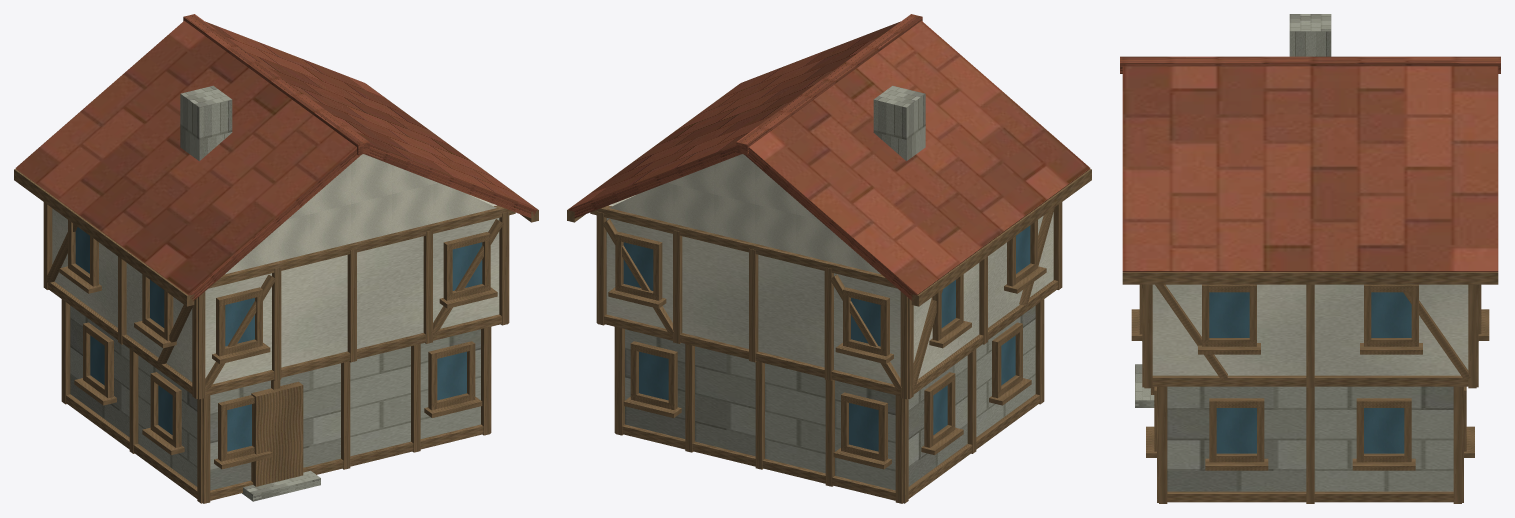
The picture shows the model from 3 angles, left to right: view 1: azimuth 30°, elevation 25°; view 2: azimuth 150°, elevation 25°; view 3: azimuth 270°, elevation 25°; orthographic projection. The views are drawn at different scales.
Visible parts, largest first — view 1: house-roof, house-wood, house-plaster, house-stone, house-glass; view 2: house-roof, house-wood, house-plaster, house-stone, house-glass; view 3: house-roof, house-wood, house-stone, house-plaster, house-glass.
Boxes of the visible parts, left/top/right/bottom form: house-roof: left=15, top=14, right=537, bottom=301; house-wood: left=14, top=84, right=538, bottom=503; house-plaster: left=52, top=154, right=499, bottom=383; house-stone: left=70, top=85, right=480, bottom=501; house-glass: left=75, top=227, right=482, bottom=451; house-roof: left=568, top=14, right=1090, bottom=300; house-wood: left=567, top=84, right=1091, bottom=503; house-plaster: left=606, top=154, right=1053, bottom=383; house-stone: left=625, top=85, right=1035, bottom=490; house-glass: left=623, top=225, right=1030, bottom=451; house-roof: left=1120, top=56, right=1500, bottom=271; house-wood: left=1122, top=272, right=1498, bottom=503; house-stone: left=1135, top=14, right=1453, bottom=491; house-plaster: left=1152, top=284, right=1468, bottom=375; house-glass: left=1209, top=292, right=1411, bottom=453.
Bounding box in the file's own units: 8.54 × 7.83 × 7.36.
Materials: 5 (5 with a texture image).
